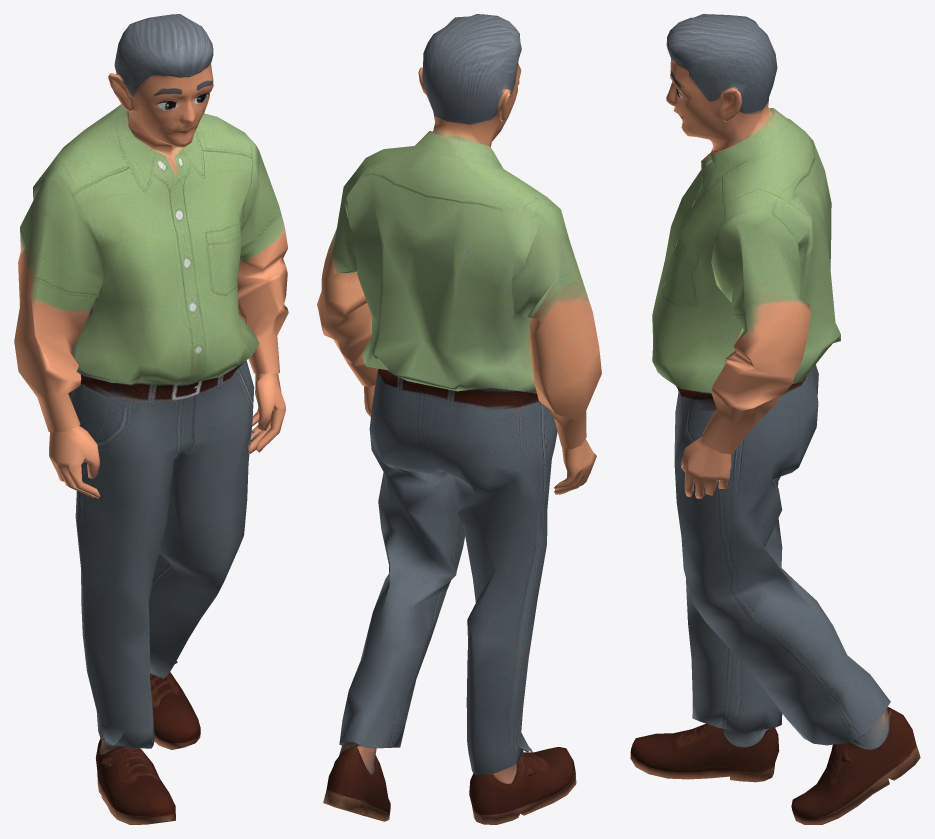
Rendered from ped_elder.glb.
The picture shows the model from 3 angles, left to right: view 1: azimuth 30°, elevation 25°; view 2: azimuth 150°, elevation 25°; view 3: azimuth 270°, elevation 25°; orthographic projection.
Size of the model in its own units: 0.3462 by 0.9517 by 0.3247.
1 material, 1 textured.
